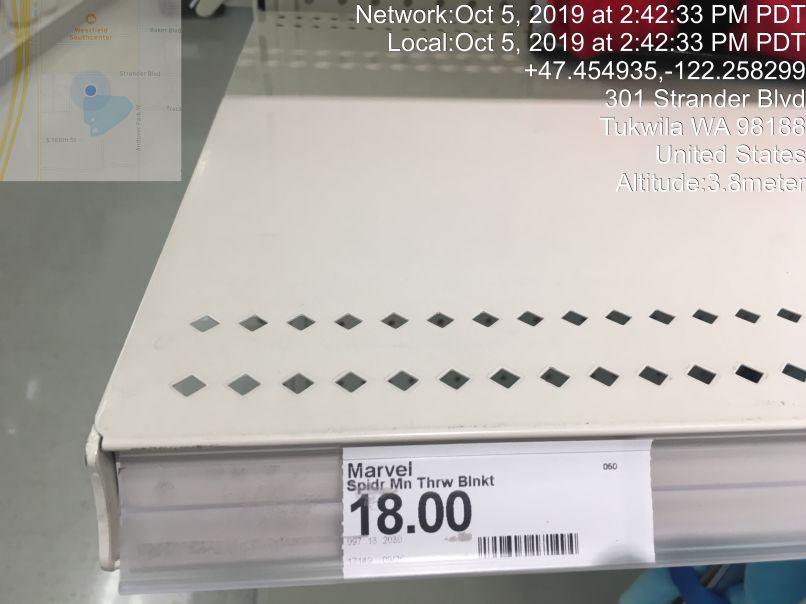Label: (324, 435, 667, 578)
Location: (596, 84, 806, 170)
Time: (347, 4, 806, 58)
Void: (244, 31, 791, 369)
